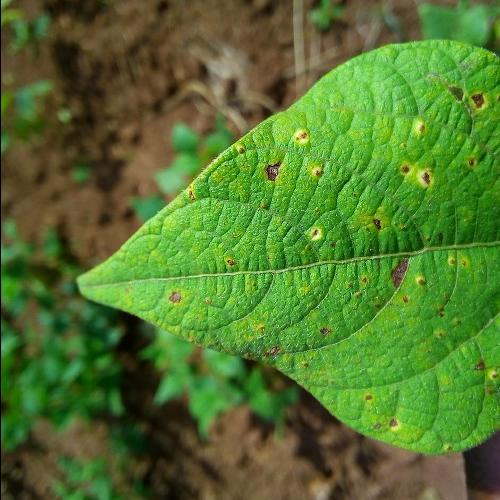hawar: (228, 113, 442, 269), (378, 260, 462, 436), (156, 266, 193, 315)
